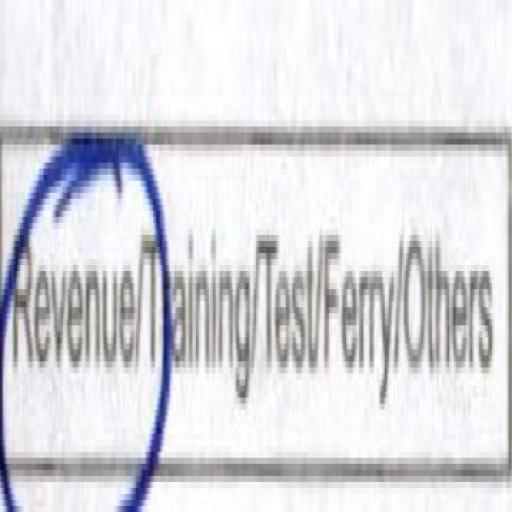check: (2, 52, 144, 512)
